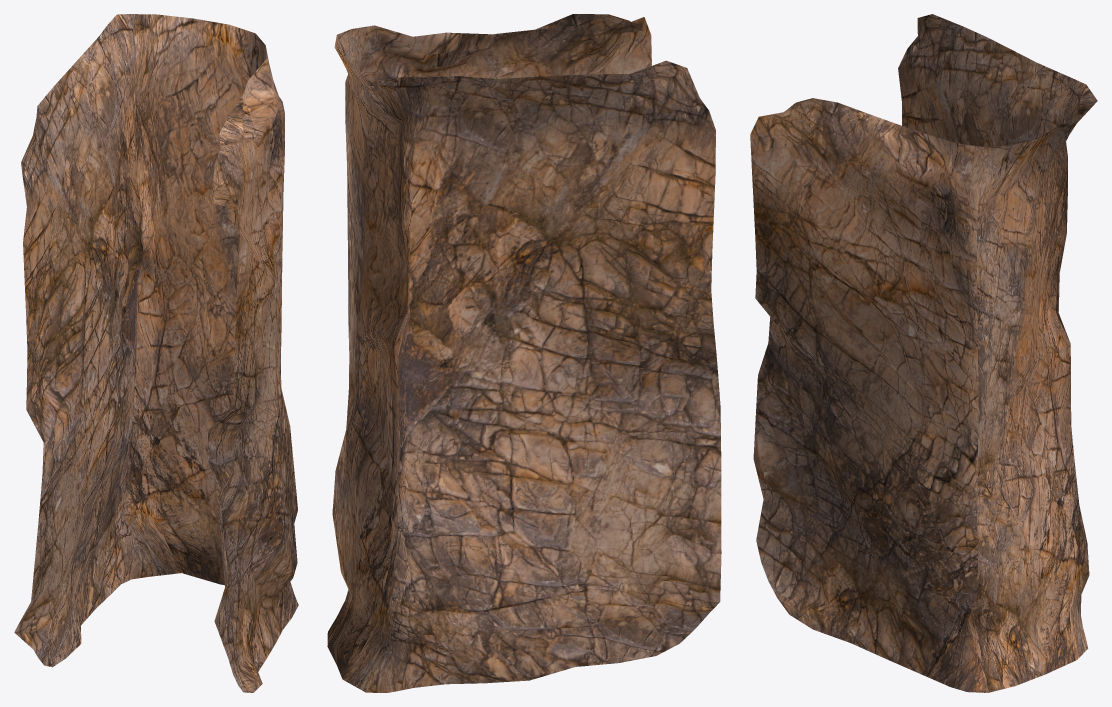
Rendered from ParedExtra2.fbx.
3 views of the same model, side by side, from view 1: azimuth 30°, elevation 25°; view 2: azimuth 150°, elevation 25°; view 3: azimuth 270°, elevation 25° (orthographic). The views are drawn at different scales.
Parts seen in each view (by area): view 1: ParedObstaculo1; view 2: ParedObstaculo1; view 3: ParedObstaculo1.
Part boxes in pixels (box(x1,y1,x2,y2)): ParedObstaculo1: box(14, 14, 298, 692); ParedObstaculo1: box(327, 14, 721, 692); ParedObstaculo1: box(750, 14, 1097, 692).
Bounding box in the file's own units: 6.76 × 11.72 × 6.66.
